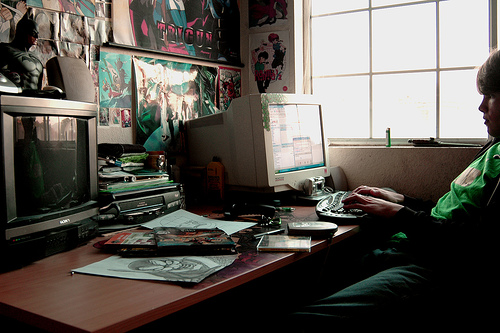without_mask: (477, 59, 500, 143)
